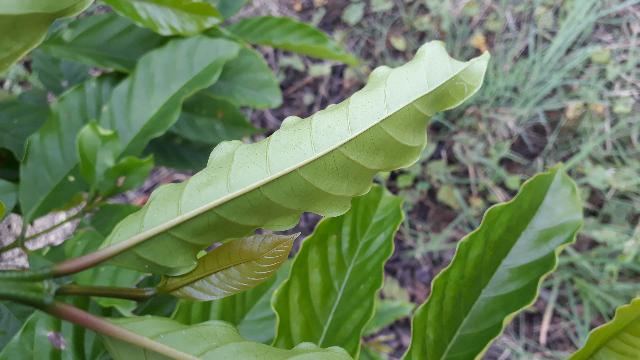healthy: (51, 43, 488, 277)
